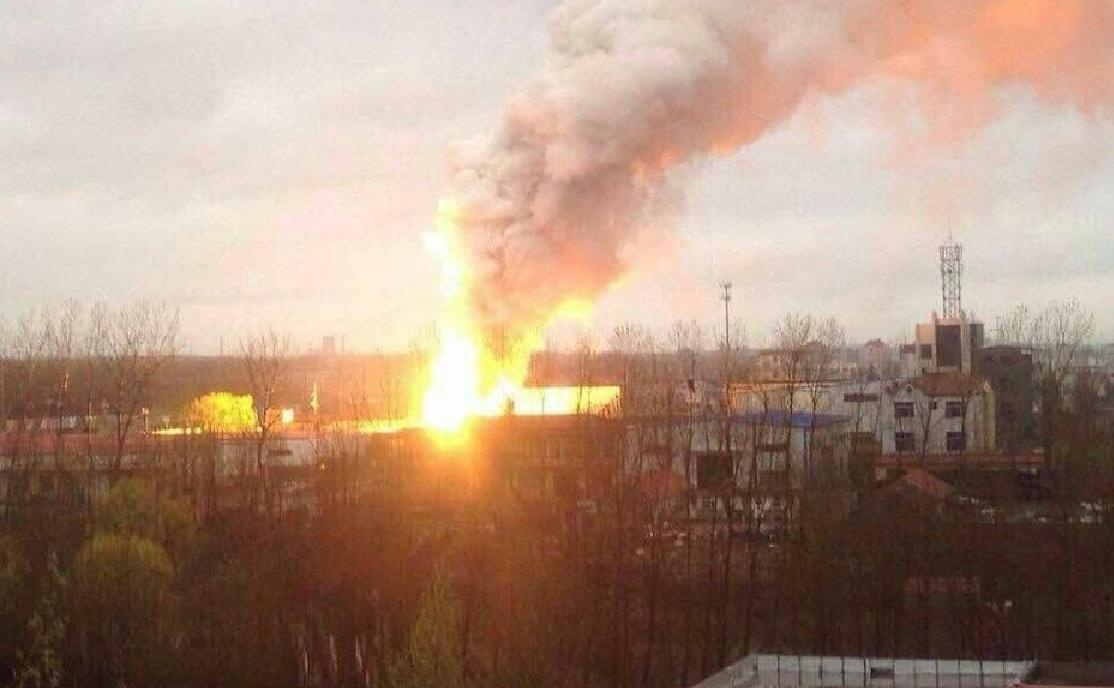fire: (421, 340, 485, 432)
